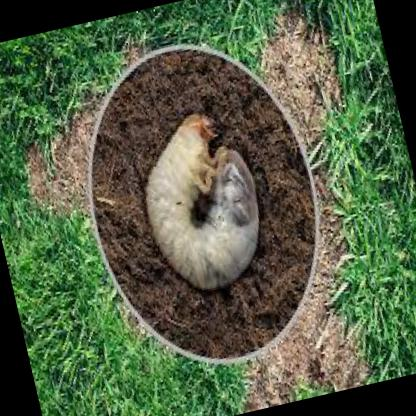root grubs: (148, 115, 258, 290)
